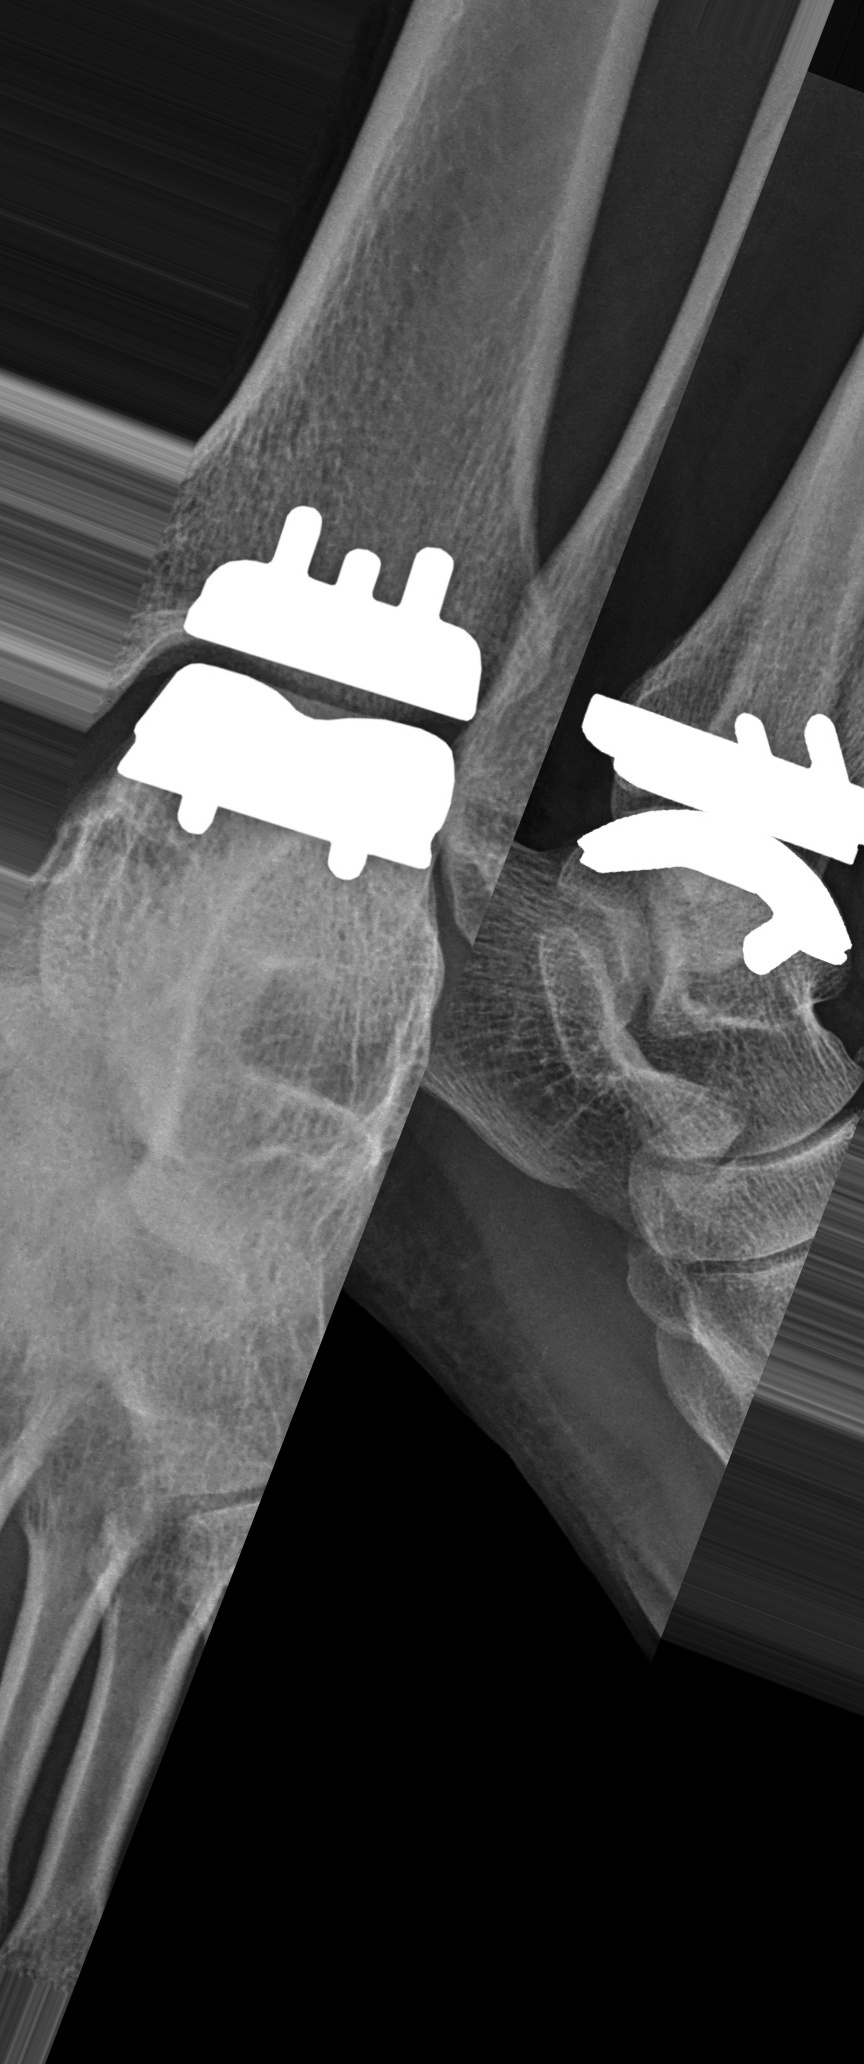Ankle - Infinity - Wright: (104, 495, 497, 908), (556, 634, 864, 993)
